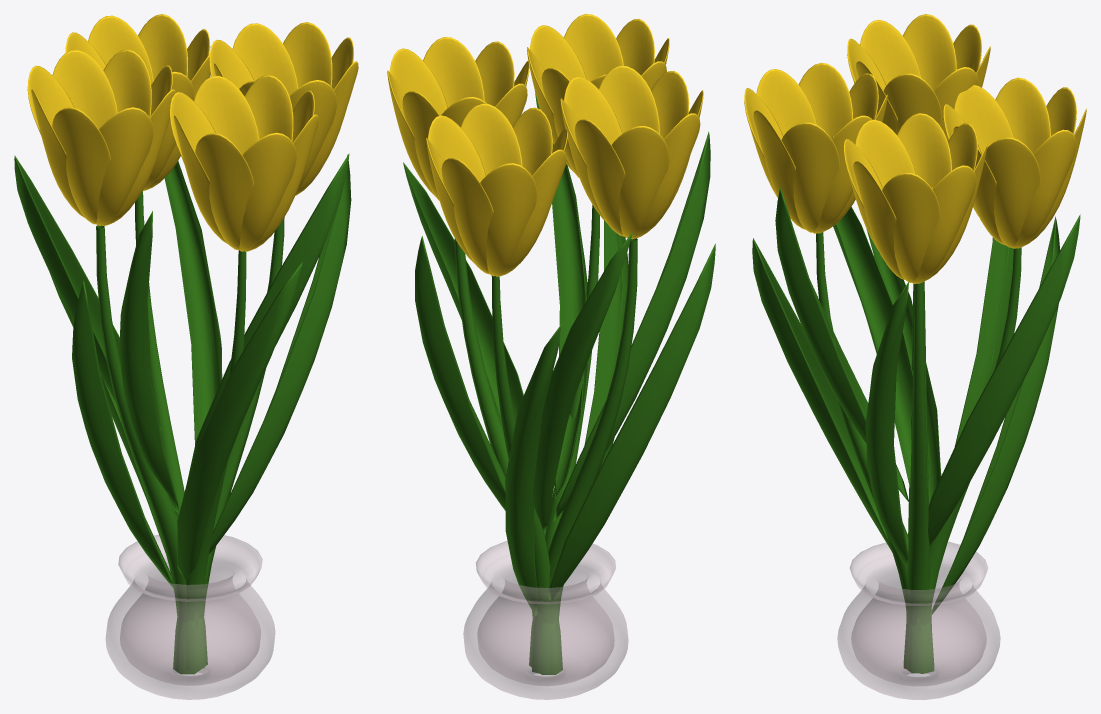
The model's file is march_bouquet_2018.glb.
3 renders of one model, left to right at view 1: azimuth 30°, elevation 25°; view 2: azimuth 150°, elevation 25°; view 3: azimuth 270°, elevation 25°, orthographic. The views are drawn at different scales.
Parts seen in each view (by area): view 1: Plane.Petal_7, Plane.Leaf_4, BezierPot.001_10, BezierStem.001_11; view 2: Plane.Petal_7, Plane.Leaf_4, BezierPot.001_10, BezierStem.001_11; view 3: Plane.Petal_7, Plane.Leaf_4, BezierPot.001_10, BezierStem.001_11.
Boxes of the visible parts, x1=… form: Plane.Petal_7: x1=27, y1=14, x2=358, y2=251; Plane.Leaf_4: x1=14, y1=153, x2=351, y2=588; BezierPot.001_10: x1=106, y1=535, x2=274, y2=699; BezierStem.001_11: x1=96, y1=191, x2=284, y2=674; Plane.Petal_7: x1=387, y1=14, x2=703, y2=276; Plane.Leaf_4: x1=403, y1=93, x2=715, y2=615; BezierPot.001_10: x1=463, y1=541, x2=628, y2=699; BezierStem.001_11: x1=454, y1=205, x2=637, y2=674; Plane.Petal_7: x1=744, y1=14, x2=1086, y2=283; Plane.Leaf_4: x1=752, y1=187, x2=1080, y2=615; BezierPot.001_10: x1=837, y1=542, x2=1000, y2=699; BezierStem.001_11: x1=816, y1=232, x2=1021, y2=673.
Bounding box in the file's own units: 4.99 × 9.58 × 4.99.
